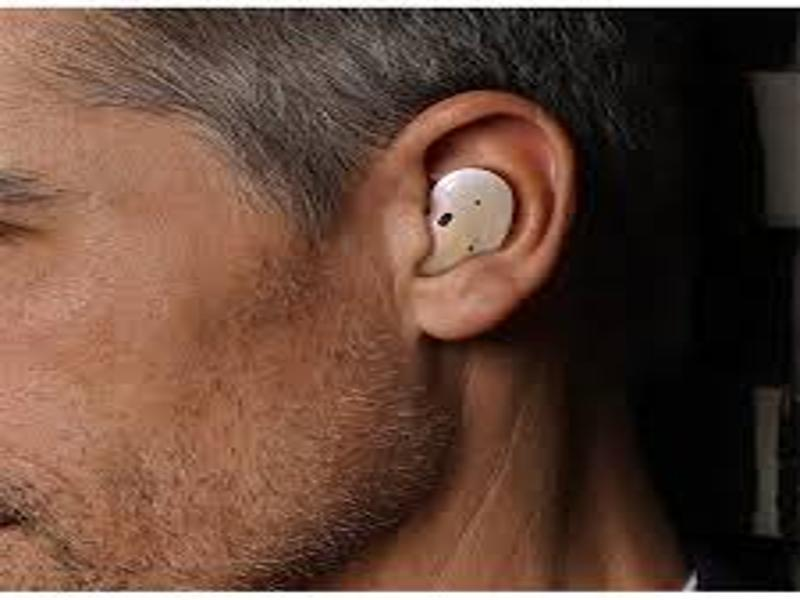headphone: (413, 165, 517, 277)
